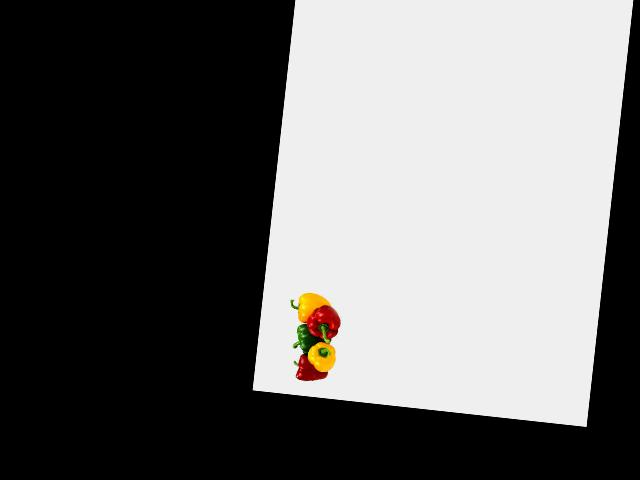bell_pepper: (290, 352, 325, 384)
